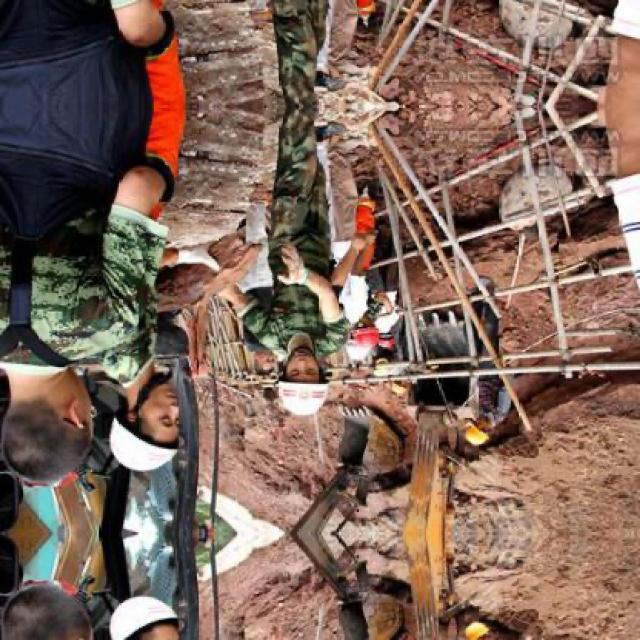con casco: (35, 349, 208, 483), (264, 334, 332, 423), (459, 399, 507, 456)
sin casco: (0, 348, 105, 487)
